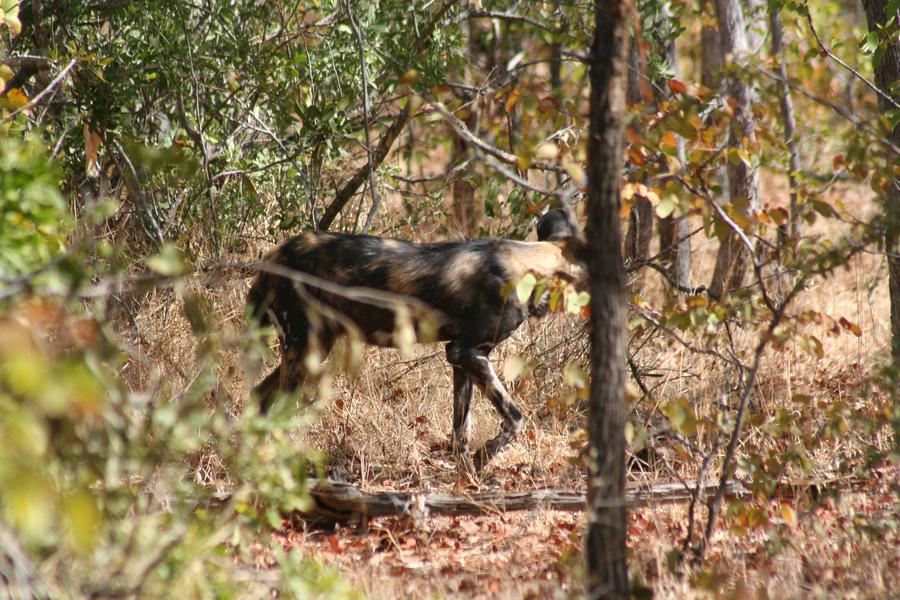wilddog: (260, 226, 583, 369)
